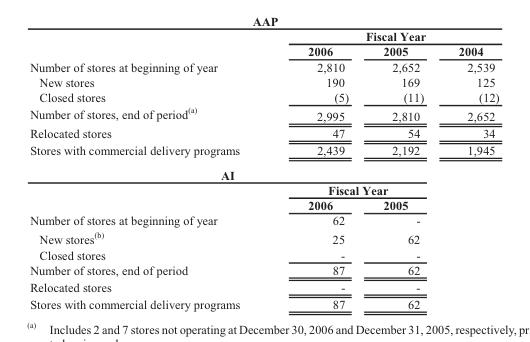table: (29, 28, 498, 311)
table column: (29, 28, 273, 311), (273, 28, 365, 311), (365, 28, 440, 311), (440, 28, 498, 311)
table column header: (29, 28, 498, 58)
table projected row header: (29, 162, 498, 182)
table row: (29, 140, 498, 162), (29, 162, 498, 182), (29, 104, 498, 123), (29, 228, 498, 246), (29, 123, 498, 140), (29, 277, 498, 294), (29, 294, 498, 311), (29, 73, 498, 89), (29, 212, 498, 228), (29, 261, 498, 277), (29, 28, 498, 43), (29, 43, 498, 58), (29, 58, 498, 73), (29, 89, 498, 104), (29, 182, 498, 197), (29, 197, 498, 212), (29, 246, 498, 261)
table spanning cell: (273, 28, 498, 43), (273, 182, 440, 197)
